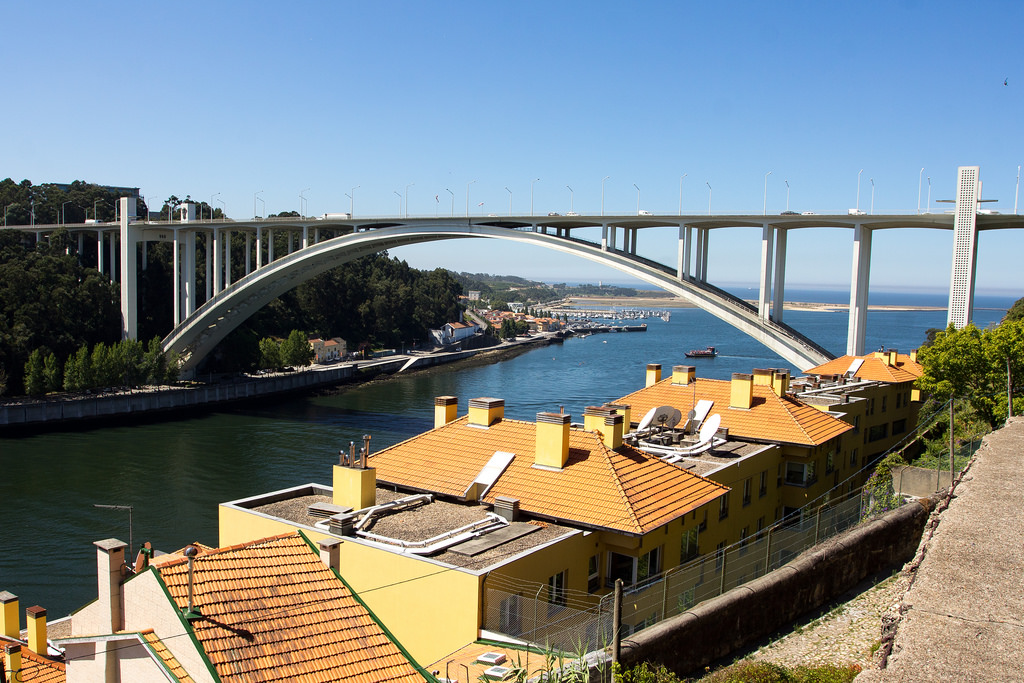arrabida: (0, 165, 1023, 382)
